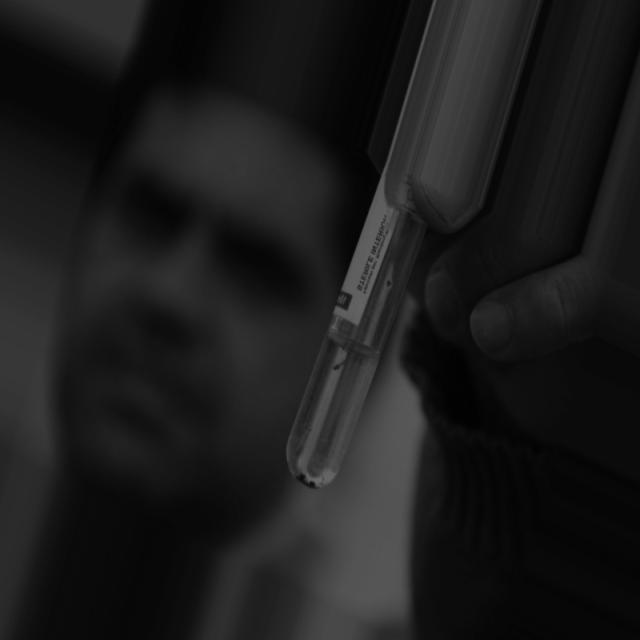larvas: (293, 426, 311, 455), (335, 354, 351, 374)
